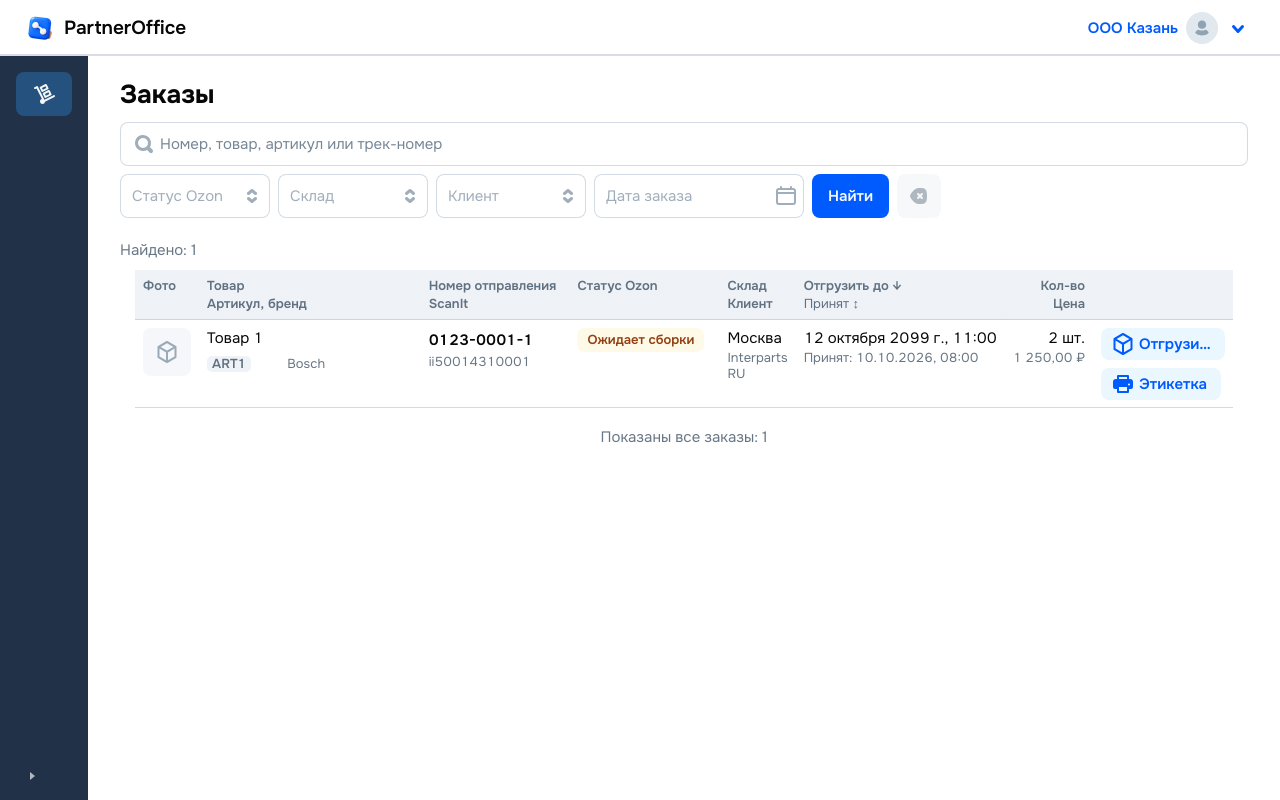
Отгрузка › просит подтверждение, и до подтверждения ничего не уходит в Ozon
What coordinates should you click on to do the following:
click the button "Отгрузить"
I would click on:
 (1163, 344)
Its box is [1101,328,1225,360].
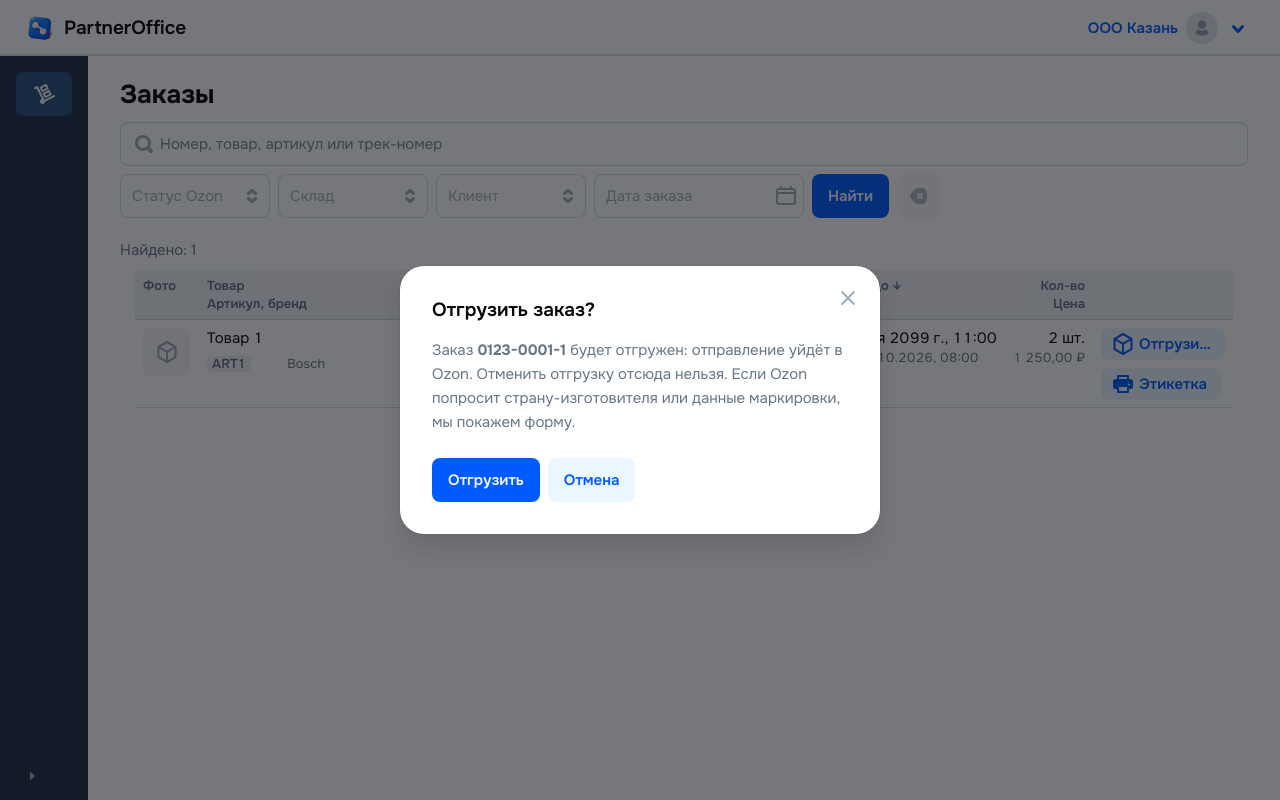
What coordinates should you click on to do the following:
click the button "Отмена"
I would click on:
 (592, 480)
Its box is [548,458,635,502].
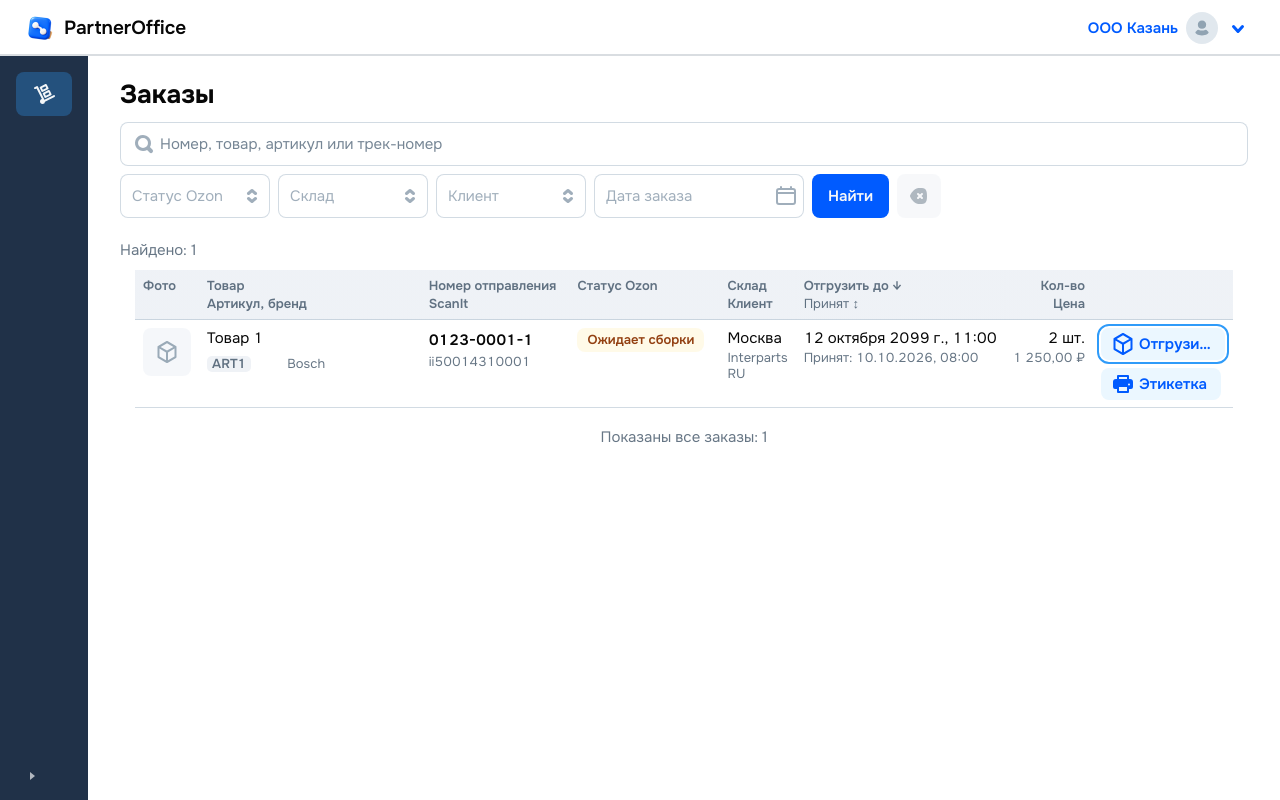
Result: the dialog is gone
